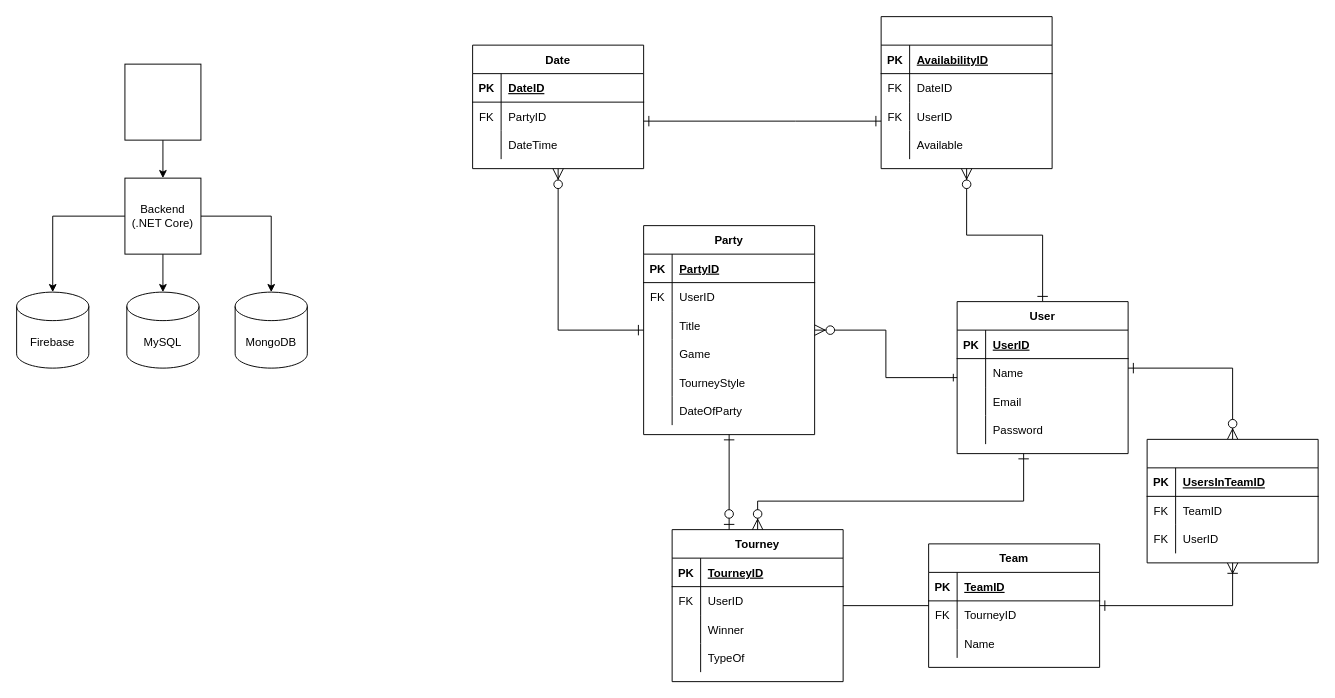
Some shapes in this 1335 by 698 pixel diagram are drawn without their labels. The shapes that lost their labels are listed below. From the top down, each one's box as (x1, y1, x2, y2) in pixels, then its label:
(124, 63, 201, 140): Front-end (React)
(880, 16, 1052, 169): Availablility
(1146, 438, 1318, 563): UserInTeam
